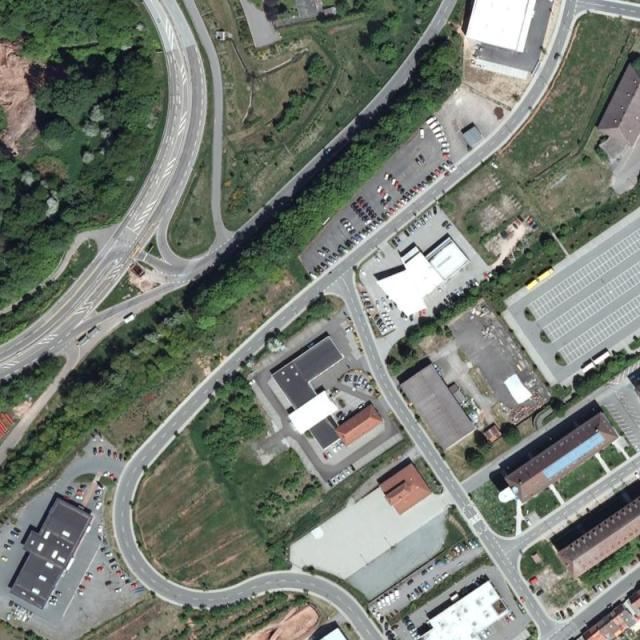vehicle: (431, 125, 444, 135), (429, 120, 440, 130), (426, 116, 437, 126), (605, 576, 614, 586), (467, 540, 476, 550), (595, 583, 604, 592), (536, 589, 545, 598), (449, 165, 458, 174), (406, 623, 416, 631), (581, 596, 589, 606), (591, 584, 599, 594), (345, 467, 353, 477), (349, 463, 357, 473), (576, 598, 584, 608), (503, 614, 511, 624), (420, 583, 428, 593), (339, 246, 349, 254), (350, 237, 360, 245), (418, 154, 426, 164), (352, 205, 362, 213), (434, 132, 445, 139), (402, 615, 410, 624), (404, 619, 413, 627), (411, 630, 420, 638), (618, 566, 626, 575), (339, 470, 347, 479), (326, 450, 334, 459), (480, 630, 488, 639), (248, 378, 257, 386), (345, 326, 354, 334), (508, 613, 516, 622), (410, 592, 418, 601), (432, 577, 440, 586), (458, 544, 466, 553), (471, 538, 479, 547), (526, 217, 534, 226), (473, 278, 481, 287), (450, 292, 458, 301), (482, 272, 490, 281), (391, 239, 399, 248), (407, 226, 415, 235), (441, 220, 449, 229), (445, 222, 453, 231), (354, 234, 363, 242), (365, 226, 374, 234), (94, 502, 102, 511), (490, 162, 499, 170), (356, 196, 364, 205), (382, 192, 390, 201), (405, 191, 414, 199), (358, 375, 365, 385), (472, 580, 482, 587), (389, 593, 396, 603), (469, 279, 476, 289), (82, 575, 92, 582), (108, 559, 118, 566), (360, 198, 367, 208), (362, 202, 369, 212), (630, 558, 638, 566), (335, 474, 343, 482), (338, 440, 346, 448), (336, 410, 344, 418), (476, 578, 484, 586), (406, 594, 414, 602), (442, 572, 450, 580), (529, 221, 537, 229), (374, 254, 382, 262), (442, 298, 450, 306), (446, 294, 454, 302), (454, 290, 462, 298), (458, 287, 466, 295), (514, 218, 522, 226), (403, 230, 411, 238), (414, 220, 422, 228), (359, 269, 367, 277), (321, 262, 329, 270), (318, 250, 326, 258), (322, 246, 330, 254), (317, 266, 325, 274), (364, 218, 372, 226), (370, 213, 378, 221), (373, 220, 381, 228), (414, 158, 422, 166), (430, 171, 438, 179), (378, 322, 386, 330), (413, 186, 421, 194), (385, 210, 393, 218), (382, 202, 390, 210), (385, 630, 394, 637), (322, 452, 329, 461), (601, 580, 608, 589), (327, 480, 334, 489), (331, 477, 338, 486), (331, 445, 338, 454), (358, 403, 367, 410), (559, 610, 566, 619), (436, 574, 443, 583), (427, 565, 436, 572), (463, 542, 470, 551), (419, 217, 426, 226), (102, 471, 111, 478), (333, 253, 342, 260), (358, 232, 367, 239), (361, 229, 370, 236), (369, 223, 378, 230), (76, 589, 85, 596), (86, 572, 95, 579), (64, 490, 73, 497), (409, 189, 418, 196), (365, 206, 372, 215), (388, 207, 397, 214), (392, 204, 401, 211), (396, 201, 405, 208), (400, 199, 409, 206), (377, 600, 383, 610), (394, 590, 400, 600), (438, 137, 448, 143), (371, 607, 378, 615), (410, 627, 418, 634), (335, 443, 342, 451), (573, 602, 580, 610), (555, 612, 562, 620), (414, 588, 421, 596), (417, 586, 424, 594), (423, 581, 430, 589), (407, 578, 414, 586), (421, 569, 429, 576), (307, 342, 315, 349), (517, 215, 525, 222), (384, 306, 392, 313), (466, 282, 473, 290), (395, 236, 402, 244), (411, 223, 418, 231), (422, 214, 429, 222), (512, 222, 519, 230), (310, 273, 318, 280), (329, 257, 337, 264), (326, 259, 334, 266), (78, 584, 86, 591), (4, 544, 12, 551), (14, 527, 22, 534), (377, 217, 385, 224), (362, 215, 370, 222), (434, 169, 442, 176), (438, 166, 446, 173), (442, 163, 450, 170), (358, 212, 366, 219), (554, 53, 561, 61), (381, 327, 388, 335), (421, 181, 429, 188), (379, 198, 386, 206), (376, 186, 383, 194), (402, 195, 410, 202), (387, 634, 396, 640), (391, 625, 400, 631), (484, 627, 490, 636), (362, 378, 368, 387), (365, 382, 371, 391), (77, 490, 86, 496), (342, 222, 351, 228), (340, 218, 349, 224), (66, 486, 75, 492), (96, 566, 105, 572), (123, 579, 132, 585), (100, 547, 109, 553), (11, 532, 20, 538), (441, 142, 450, 148), (356, 209, 365, 215), (384, 173, 390, 182), (388, 174, 394, 183), (385, 596, 390, 606), (420, 129, 425, 139), (519, 597, 526, 604), (414, 634, 422, 640), (531, 224, 539, 230), (388, 302, 394, 310), (381, 298, 387, 306), (346, 226, 354, 232), (50, 596, 58, 602), (114, 588, 122, 594), (130, 582, 138, 588), (7, 539, 15, 545), (446, 160, 454, 166), (374, 314, 380, 322), (377, 318, 383, 326), (418, 184, 426, 190), (350, 202, 358, 208), (368, 210, 374, 218), (386, 195, 392, 203), (381, 598, 386, 607), (433, 206, 438, 215), (93, 447, 98, 456), (95, 490, 104, 495), (115, 570, 124, 575), (48, 601, 57, 606), (103, 581, 112, 586), (74, 495, 83, 500), (397, 184, 402, 193), (344, 375, 350, 382), (349, 375, 354, 383), (385, 320, 393, 325), (428, 211, 433, 219), (107, 450, 112, 458), (113, 452, 118, 460), (349, 230, 357, 235), (54, 591, 62, 596), (1, 557, 9, 562), (442, 148, 450, 153), (365, 307, 375, 311), (381, 190, 386, 198), (391, 178, 396, 186), (394, 182, 399, 190), (401, 188, 406, 196), (385, 622, 389, 631), (387, 325, 396, 329), (111, 566, 120, 570), (442, 154, 451, 158), (360, 292, 369, 296), (376, 613, 381, 620), (120, 576, 127, 581), (354, 374, 358, 382), (98, 447, 102, 455), (119, 454, 123, 462), (376, 300, 380, 308), (94, 497, 102, 501), (105, 553, 113, 557), (363, 302, 371, 306), (362, 298, 370, 302), (382, 313, 389, 317), (384, 317, 391, 321), (80, 486, 87, 490), (98, 526, 102, 533), (381, 616, 384, 624), (549, 1, 554, 3)
